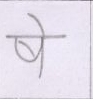e_matra: (28, 13, 49, 35)
